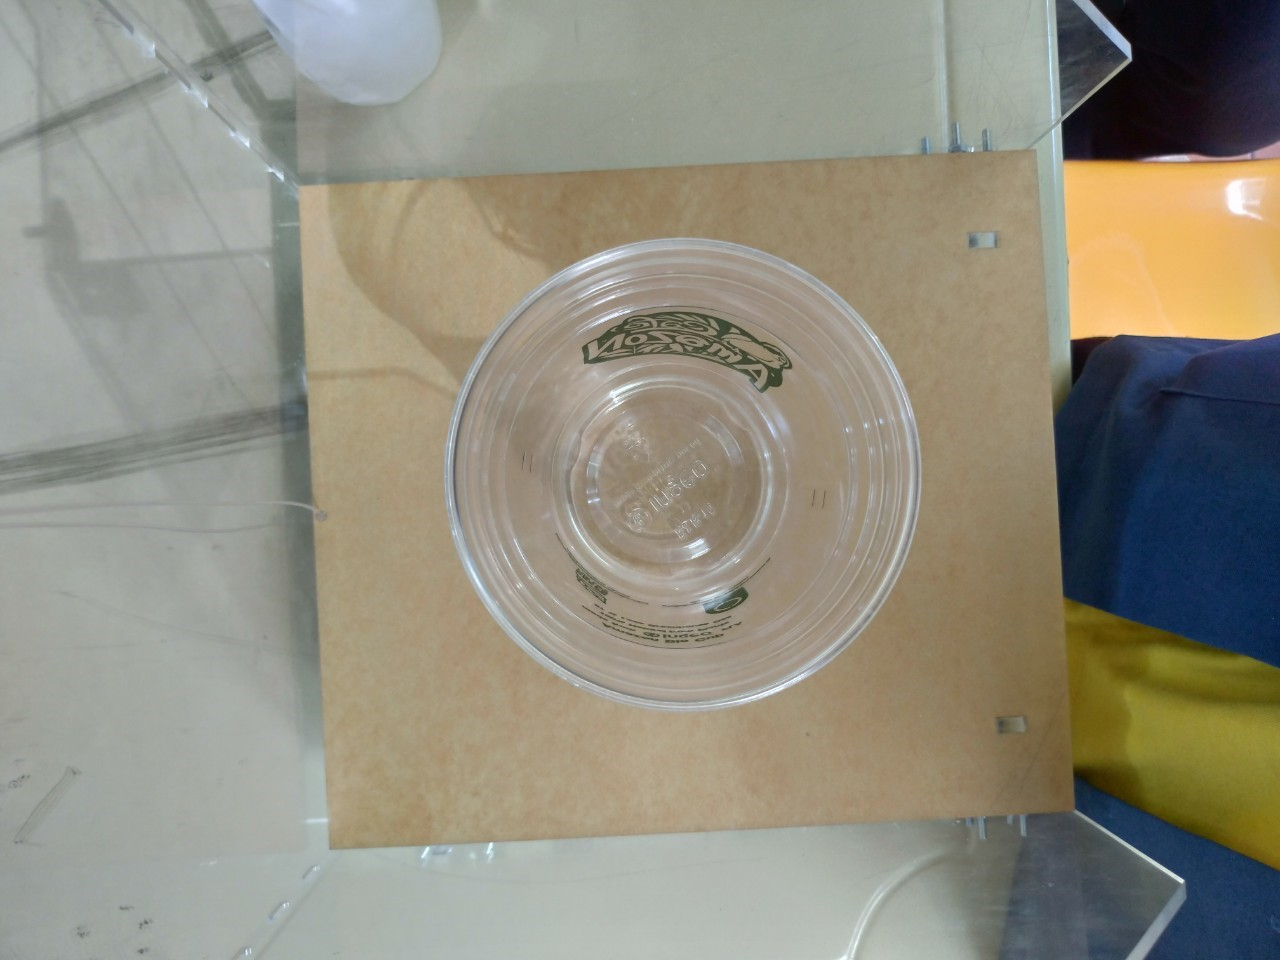PlasticCup: (444, 237, 922, 714)
